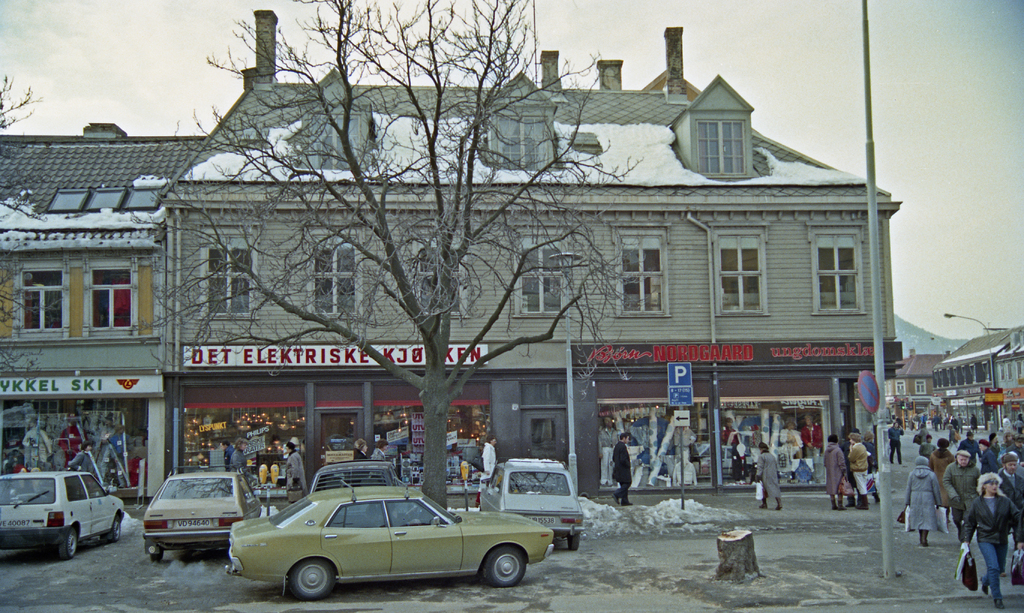Car: (215, 477, 563, 598), (0, 470, 128, 559), (474, 458, 586, 553), (143, 470, 261, 555)
